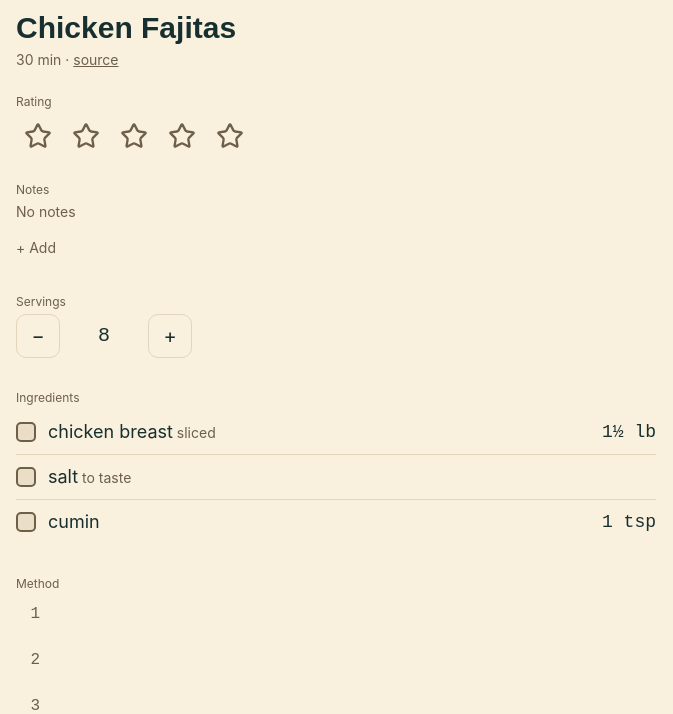
Test: the curve note under the stepper › shows once scaled up when a seasoning ingredient has a quantity
Click the button named "More servings".
click(170, 336)  # box [148,314,192,358]
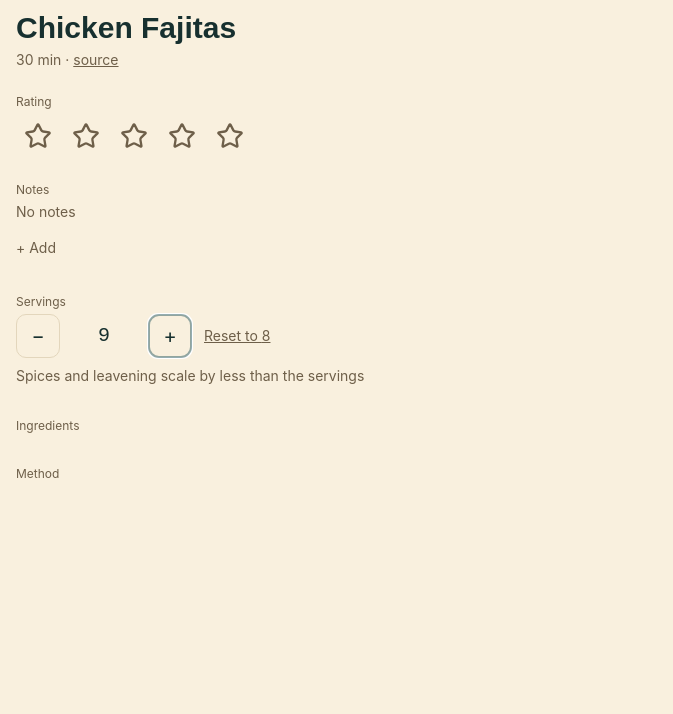
Expected: the text "Spices and leavening scale by less than the servings" is shown, [16,367,364,384]
